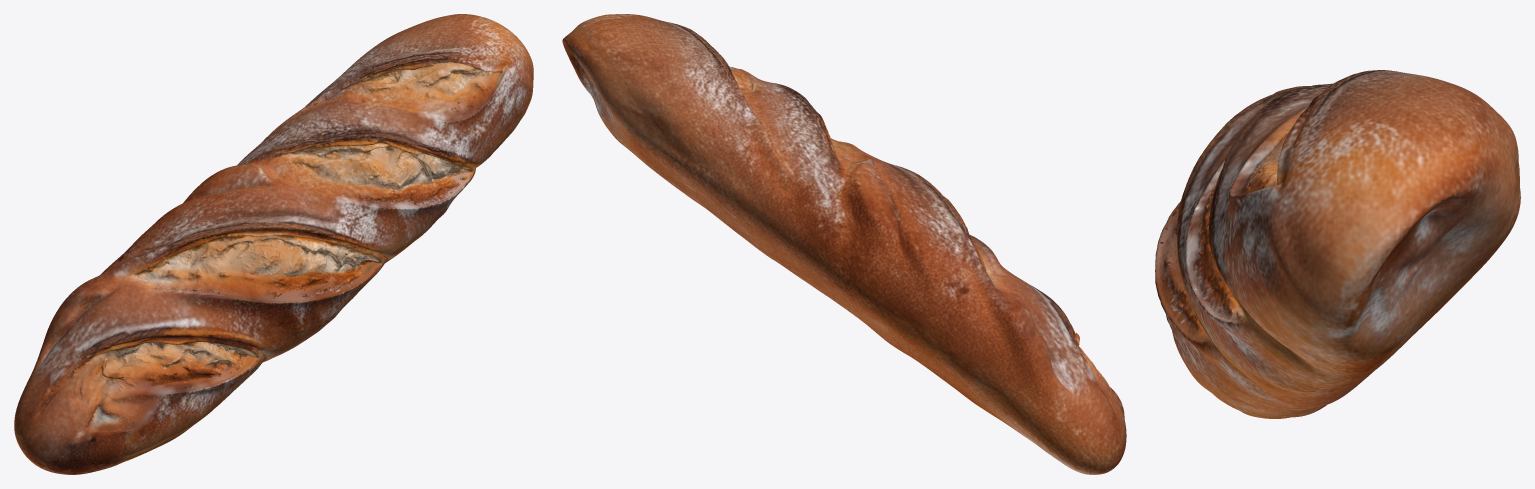
File: baton-uv2048.glb
The picture shows the model from 3 angles, left to right: view 1: azimuth 30°, elevation 25°; view 2: azimuth 150°, elevation 25°; view 3: azimuth 270°, elevation 25°; orthographic projection. The views are drawn at different scales.
Parts seen in each view (by area): view 1: geometry_0; view 2: geometry_0; view 3: geometry_0.
Boxes of the visible parts, x1=… form: geometry_0: x1=14, y1=14, x2=533, y2=474; geometry_0: x1=562, y1=14, x2=1126, y2=474; geometry_0: x1=1155, y1=70, x2=1520, y2=418.
Size of the model in its own units: 3.23 by 2 by 1.
Materials: 1 (1 with a texture image).
